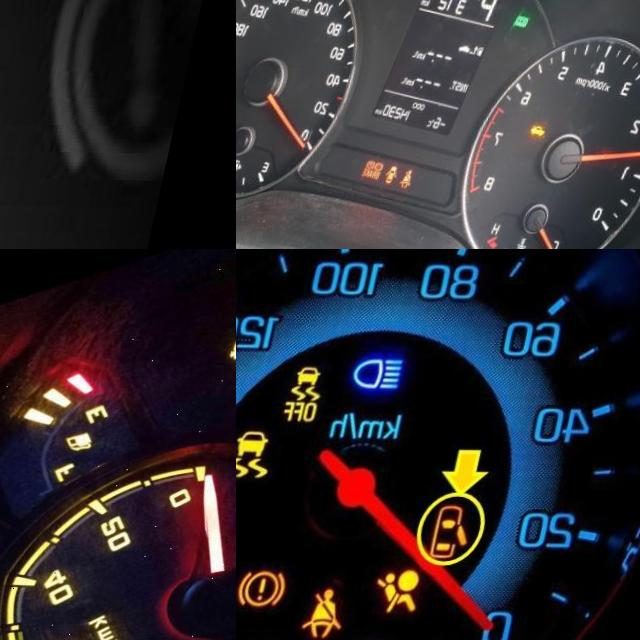Doors: (401, 163, 419, 183)
